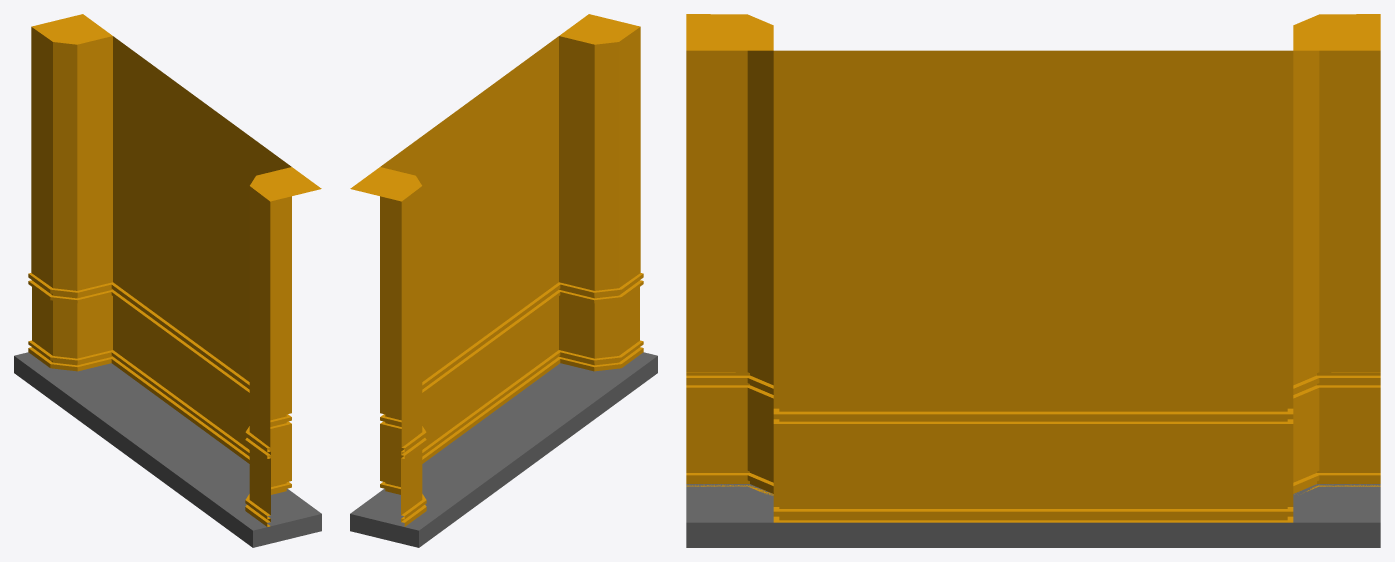
File: side_wall.fbx
The picture shows the model from 3 angles, left to right: view 1: azimuth 30°, elevation 25°; view 2: azimuth 150°, elevation 25°; view 3: azimuth 270°, elevation 25°; orthographic projection. The views are drawn at different scales.
Parts seen in each view (by area): view 1: side_wall, side_wall_under, side_base; view 2: side_wall, side_wall_under, side_base; view 3: side_wall, side_wall_under, side_base.
Boxes of the visible parts, <box> form: side_wall: <box>31,14,321,447</box>; side_wall_under: <box>28,273,291,526</box>; side_base: <box>14,352,321,547</box>; side_wall: <box>350,14,640,447</box>; side_wall_under: <box>380,273,643,526</box>; side_base: <box>350,352,657,547</box>; side_wall: <box>686,14,1380,408</box>; side_wall_under: <box>686,372,1380,522</box>; side_base: <box>686,484,1380,547</box>.
Bounding box in the file's own units: 100 × 474 × 600.
